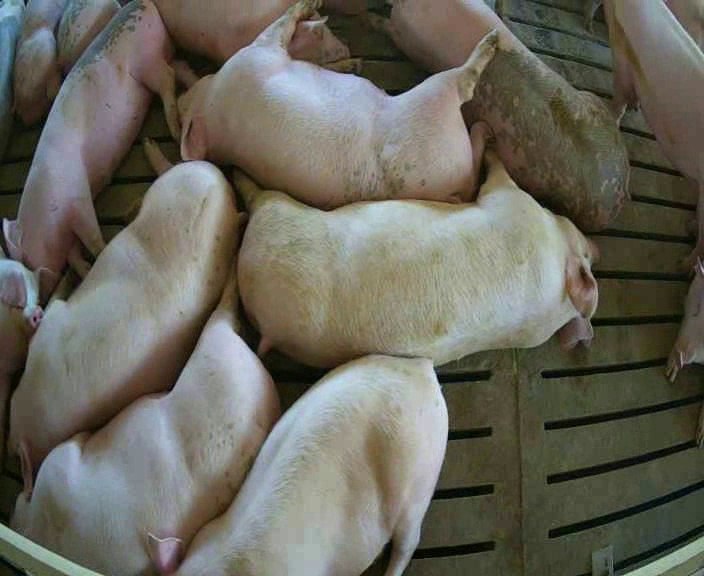pig: (9, 262, 278, 573), (10, 137, 247, 489), (231, 147, 597, 365), (145, 355, 446, 575), (179, 1, 495, 207), (368, 2, 628, 230), (605, 2, 703, 271), (14, 2, 64, 125), (57, 1, 120, 73)
